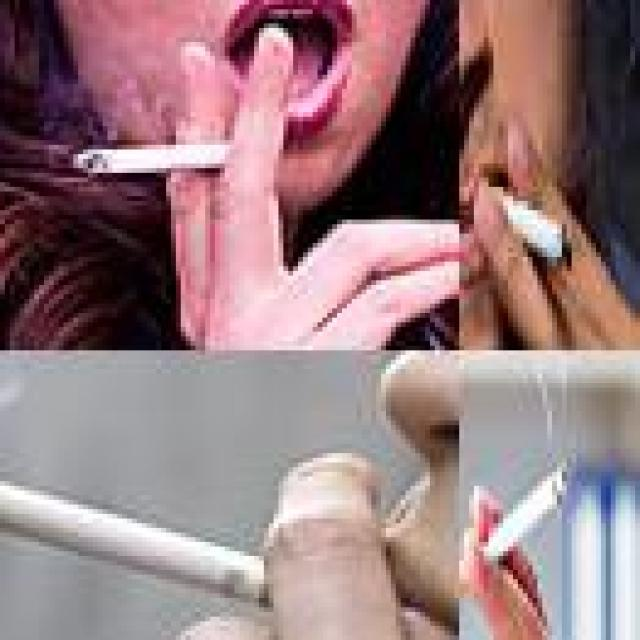smoking: (0, 462, 381, 630), (459, 462, 567, 598), (491, 164, 574, 280), (56, 135, 218, 173)
